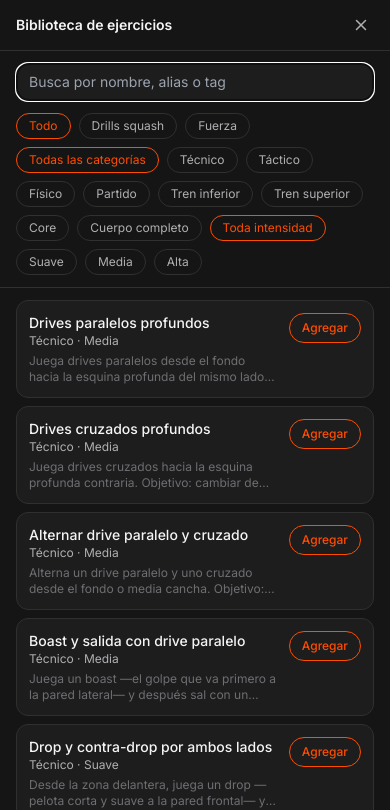
ExerciseLibraryBrowser › al cambiar origen reinicia categoría y muestra solo categorías compatibles
Click the button "Tren inferior" at (205, 194), box 158,181 -> 253,207
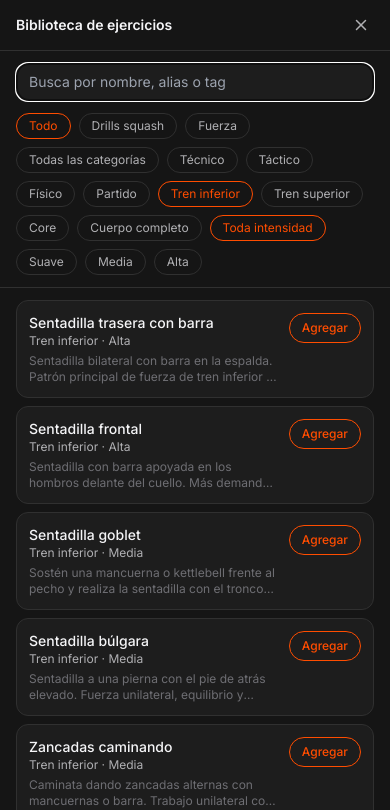
Result: the button "Tren inferior" is pressed at 158,181 -> 253,207
Click the button "Drills squash" at (128, 126), box 78,113 -> 177,139
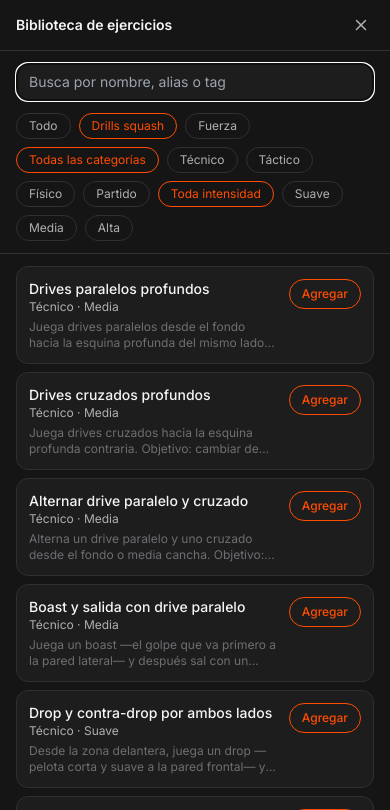
Expected: the button "Técnico" is shown, 167,147 -> 238,173
Result: the button "Tren inferior" is gone
Click the button "Fuerza" at (218, 126), box 185,113 -> 250,139
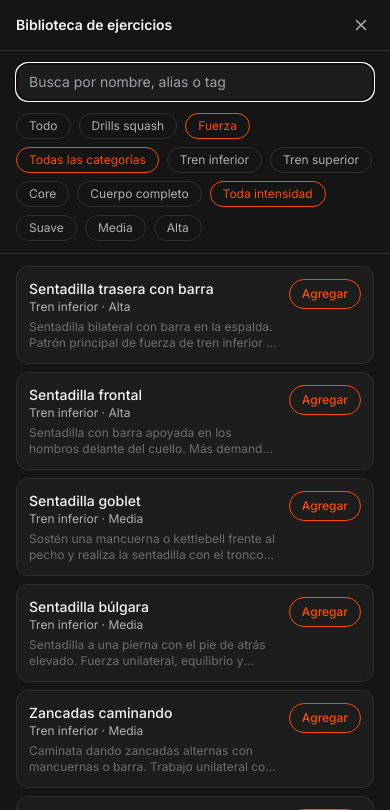
Result: the button "Técnico" is gone
Result: the button "Tren inferior" is shown at 167,147 -> 262,173
